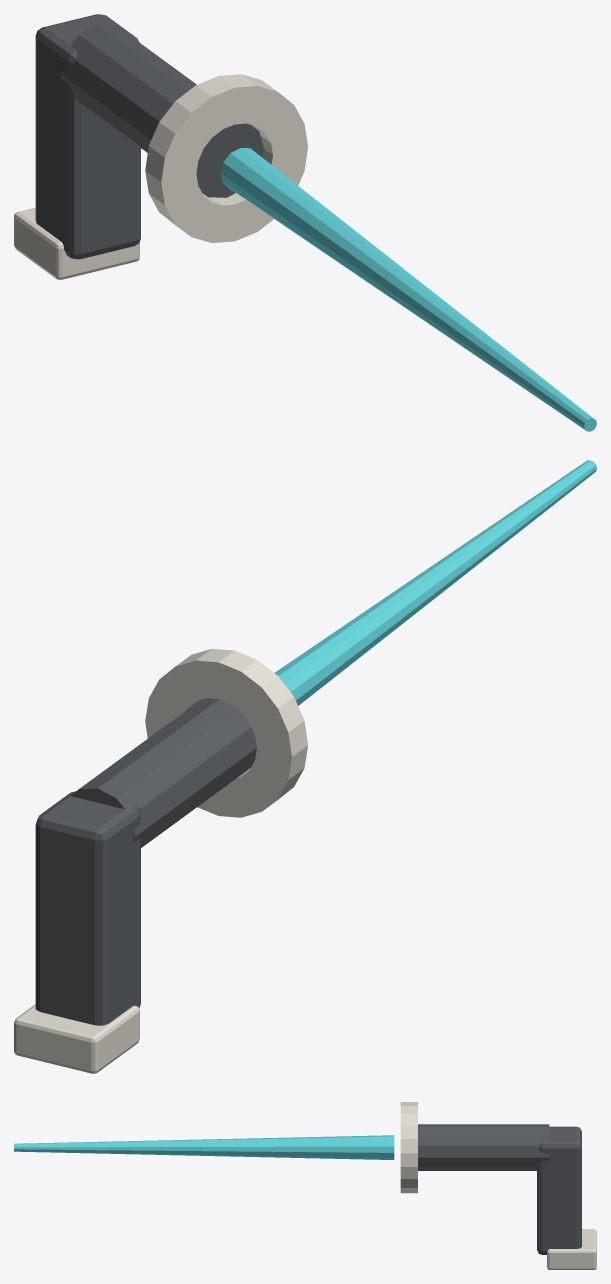
Rendered from LaserSword.fbx.
3 views of the same model, one above another, from view 1: azimuth 30°, elevation 25°; view 2: azimuth 150°, elevation 25°; view 3: azimuth 270°, elevation 25° (orthographic). The views are drawn at different scales.
Visible parts, largest first — view 1: PalmGrip, Guard, BladeCore, GripBody, GripHeel; view 2: PalmGrip, Guard, GripBody, BladeCore, GripHeel; view 3: BladeCore, GripBody, PalmGrip, Guard, GripHeel.
Part boxes in pixels (x1,y1,x2,y2): PalmGrip: [35, 14, 140, 259]; Guard: [145, 74, 307, 242]; BladeCore: [220, 148, 596, 431]; GripBody: [60, 25, 263, 197]; GripHeel: [14, 208, 139, 279]; PalmGrip: [35, 791, 140, 1025]; Guard: [145, 649, 307, 817]; GripBody: [71, 698, 256, 847]; BladeCore: [274, 460, 596, 705]; GripHeel: [14, 1004, 139, 1073]; BladeCore: [14, 1135, 394, 1159]; GripBody: [418, 1124, 549, 1170]; PalmGrip: [537, 1126, 581, 1254]; Guard: [400, 1102, 417, 1193]; GripHeel: [547, 1229, 596, 1269].
Bounding box in the file's own units: 0.184 × 0.3395 × 1.16.
